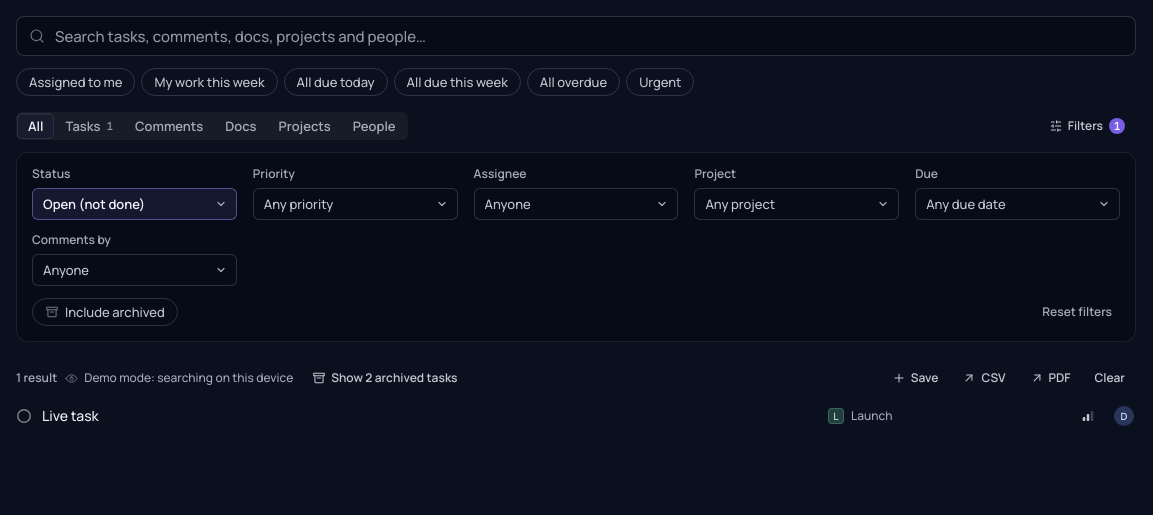
it: archived › is hidden by default, with a one-click way to include it
Expected: the text "Old task" is not shown
Click the button "Show 2 archived tasks": (385, 378) [301,364,468,392]
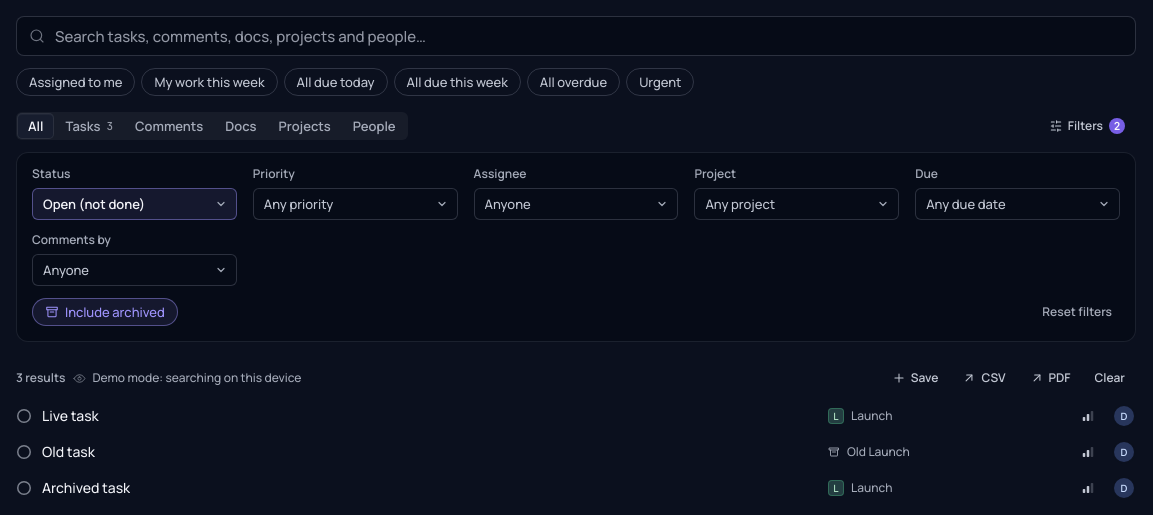
Expected: the text "Archived task" is shown, [42,478,130,497]
Expected: the text "Old task" is shown, [42,442,95,461]
